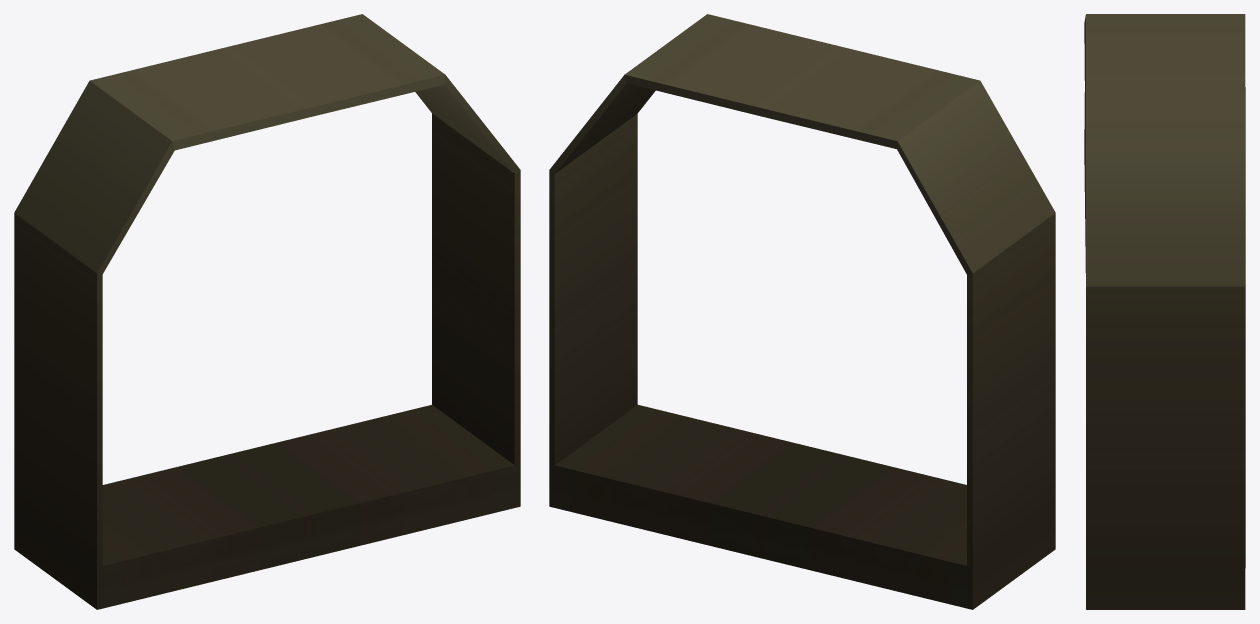
Rendered from train_middle_bb_placeholder_v011 1.fbx.
3 renders of one model, left to right at view 1: azimuth 30°, elevation 25°; view 2: azimuth 150°, elevation 25°; view 3: azimuth 270°, elevation 25°, orthographic. The views are drawn at different scales.
Visible parts, largest first — view 1: mittelstück b auf b v1; view 2: mittelstück b auf b v1; view 3: mittelstück b auf b v1.
Part boxes in pixels (box(x1,y1,x2,y2)): mittelstück b auf b v1: box(14, 14, 520, 609); mittelstück b auf b v1: box(549, 14, 1055, 609); mittelstück b auf b v1: box(1084, 14, 1245, 609).
Size of the model in its own units: 295 by 101 by 300.
Materials: 1 (1 with a texture image).
